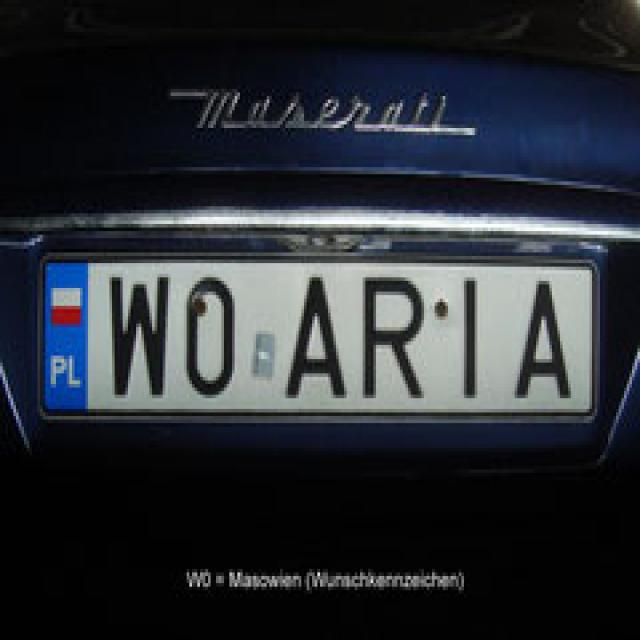pl_license_plate: (40, 256, 592, 405)
